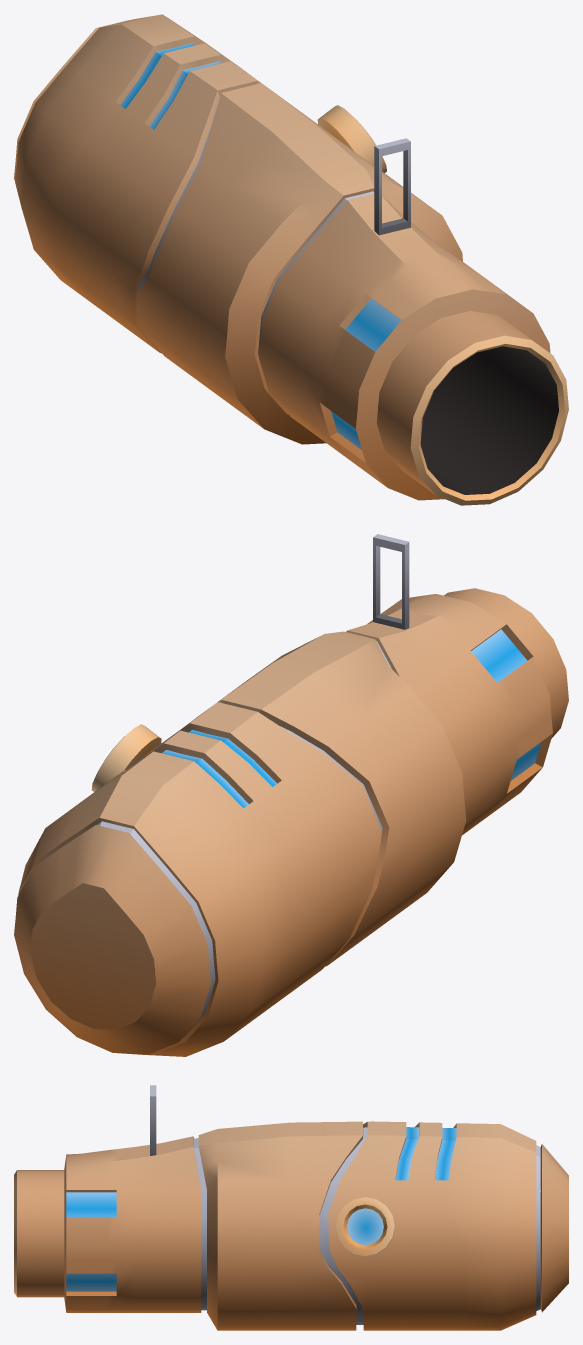
File: ArmCannon.fbx
The picture shows the model from 3 angles, top to bottom: view 1: azimuth 30°, elevation 25°; view 2: azimuth 150°, elevation 25°; view 3: azimuth 270°, elevation 25°; orthographic projection. The views are drawn at different scales.
Visible parts, largest first — view 1: Canon; view 2: Canon; view 3: Canon.
Boxes of the visible parts, box(x1,y1,x2,y2) form: Canon: box(14, 14, 568, 505); Canon: box(14, 534, 568, 1056); Canon: box(14, 1085, 568, 1330).
Bounding box in the file's own units: 40.15 × 49.38 × 107.
